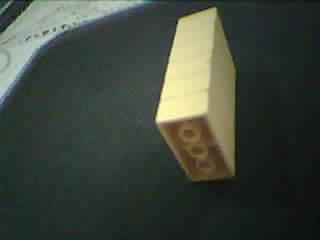lego: (154, 5, 235, 183)
